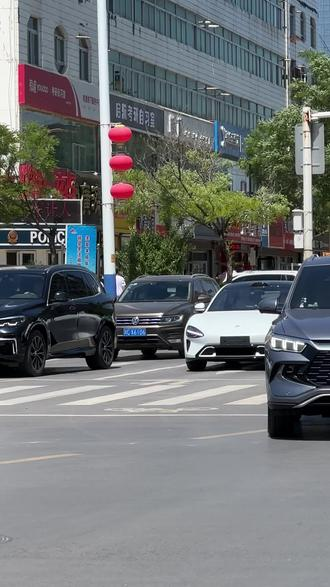other: (0, 263, 117, 370), (269, 249, 330, 437), (113, 267, 218, 353)
su7: (183, 272, 303, 377)
